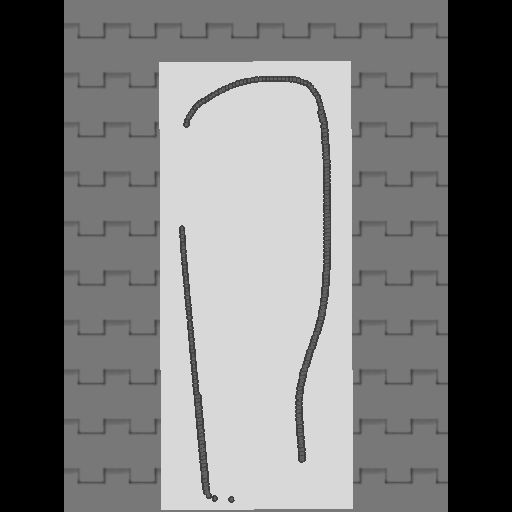Defect: (174, 125, 197, 228)
